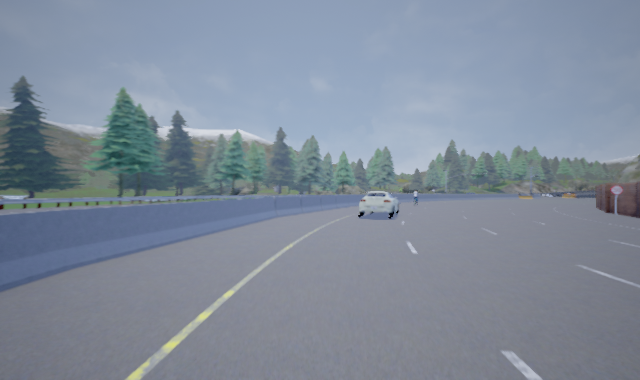vehicle: (358, 190, 400, 218)
